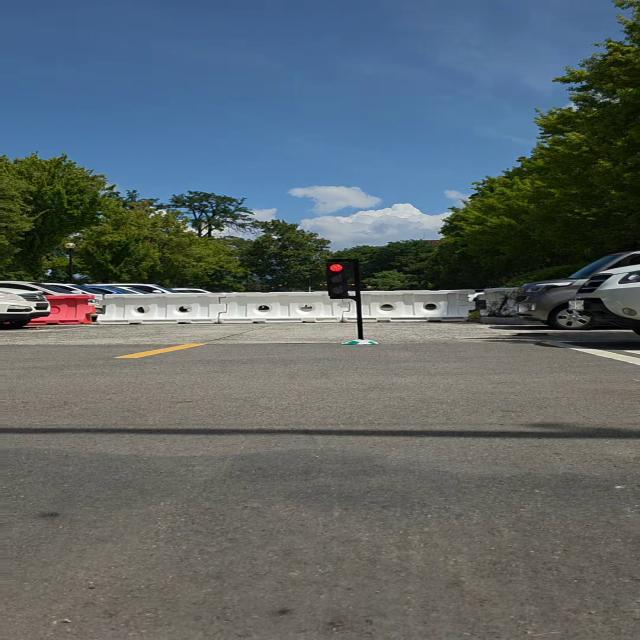red: (323, 258, 354, 298)
